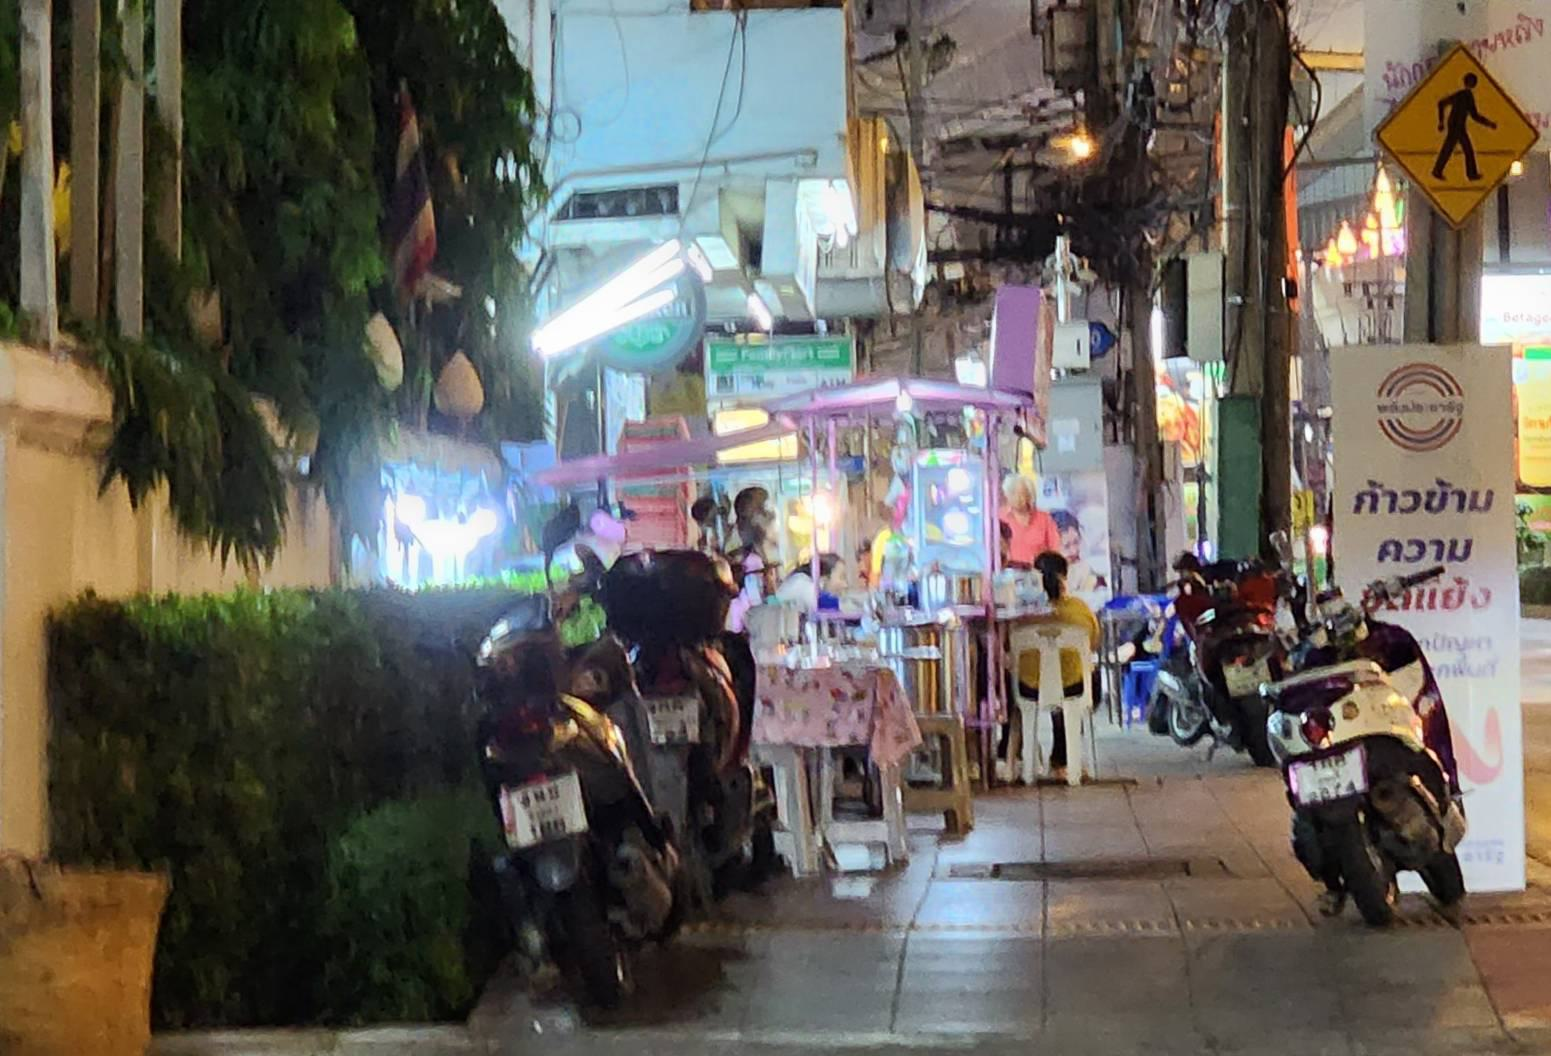Banner: (1332, 346, 1522, 892)
